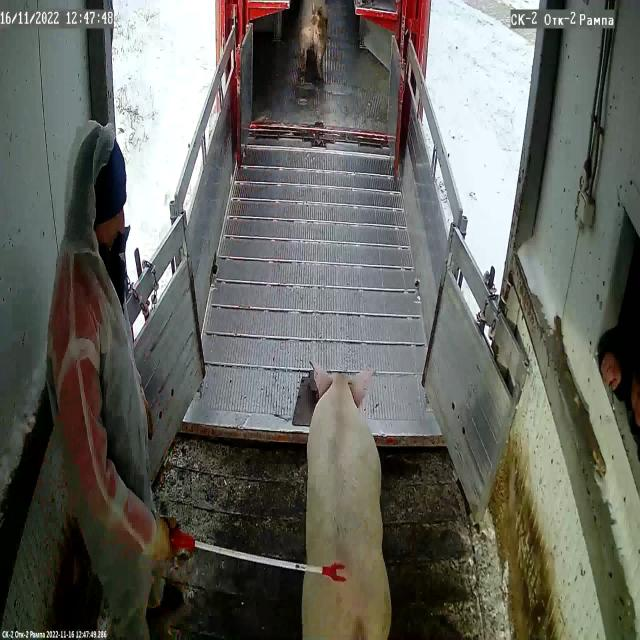pig: (302, 370, 392, 640)
